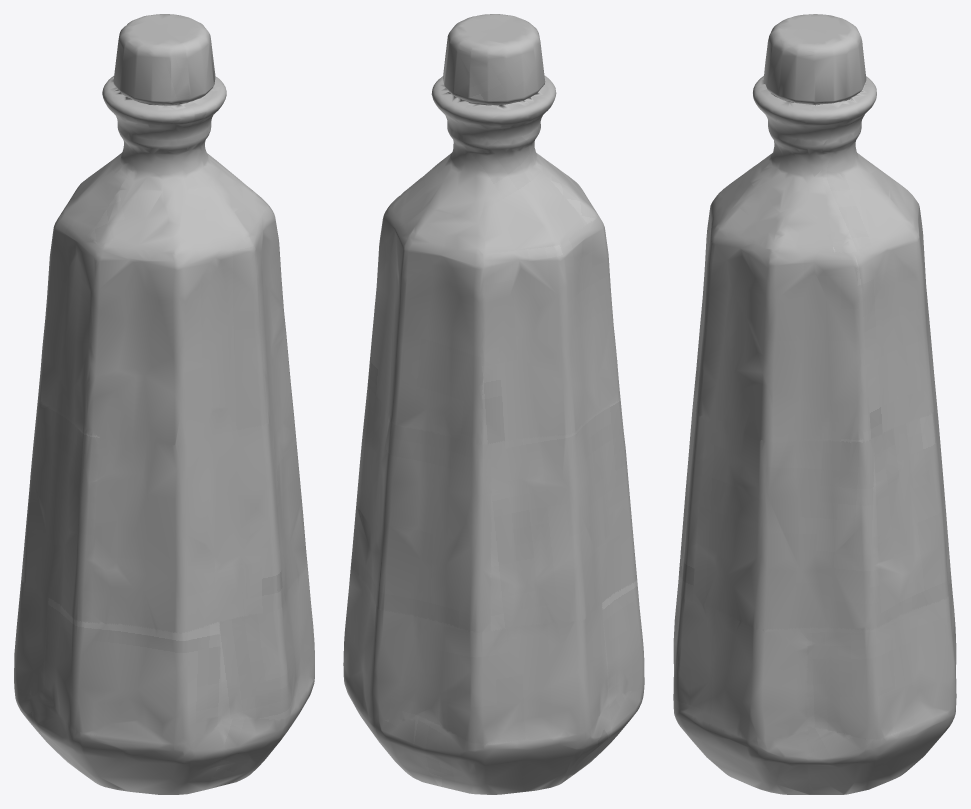
File: bot-facetada.glb
3 renders of one model, left to right at view 1: azimuth 30°, elevation 25°; view 2: azimuth 150°, elevation 25°; view 3: azimuth 270°, elevation 25°, orthographic.
Parts seen in each view (by area): view 1: tripo_node_045b7156-4c15-4614-94ba-a8d267495846; view 2: tripo_node_045b7156-4c15-4614-94ba-a8d267495846; view 3: tripo_node_045b7156-4c15-4614-94ba-a8d267495846.
Part boxes in pixels (x1=…): tripo_node_045b7156-4c15-4614-94ba-a8d267495846: x1=14, y1=14, x2=314, y2=794; tripo_node_045b7156-4c15-4614-94ba-a8d267495846: x1=343, y1=14, x2=644, y2=794; tripo_node_045b7156-4c15-4614-94ba-a8d267495846: x1=673, y1=14, x2=956, y2=794.
Bounding box in the file's own units: 0.3539 × 1 × 0.3539.
Materials: 1 (1 with a texture image).
